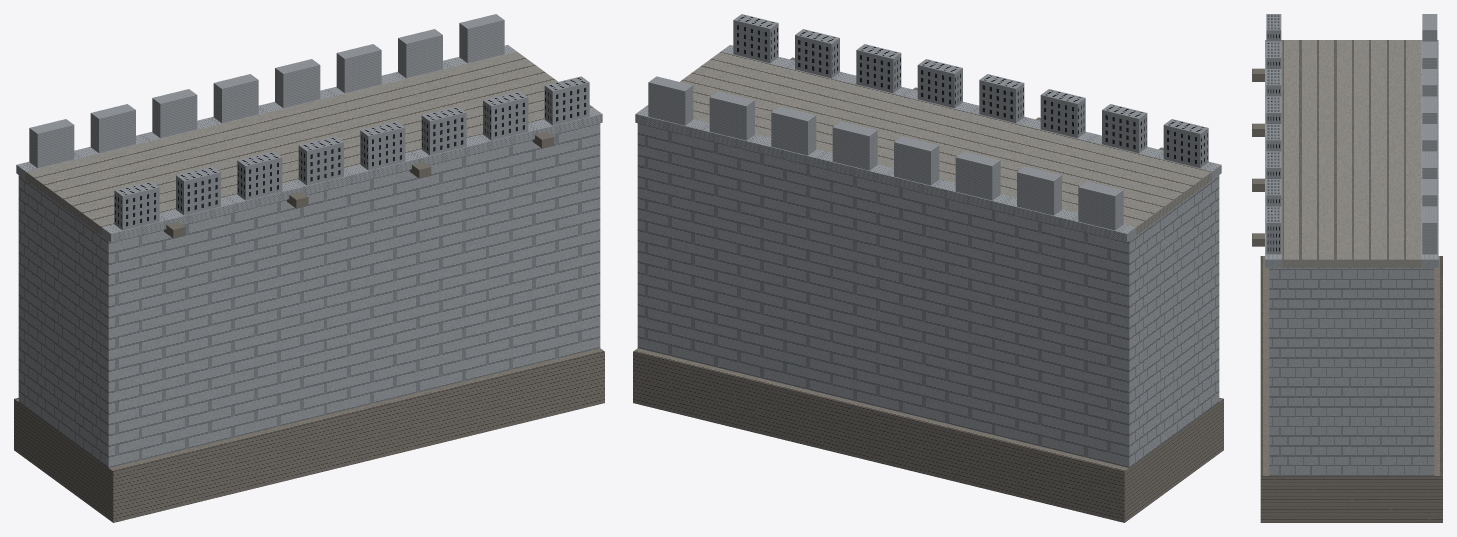
The model's file is great_wall_var1_straight_segment.glb.
3 views of the same model, side by side, from view 1: azimuth 30°, elevation 25°; view 2: azimuth 150°, elevation 25°; view 3: azimuth 270°, elevation 25° (orthographic). The views are drawn at different scales.
Visible parts, largest first — view 1: Great_Wall_Var1_Straight_Segment; view 2: Great_Wall_Var1_Straight_Segment; view 3: Great_Wall_Var1_Straight_Segment.
Part boxes in pixels (x1,y1,x2,y2): Great_Wall_Var1_Straight_Segment: [14, 14, 604, 522]; Great_Wall_Var1_Straight_Segment: [633, 14, 1223, 522]; Great_Wall_Var1_Straight_Segment: [1252, 14, 1442, 522].
Size of the model in its own units: 12 by 7.5 by 4.4.
Materials: 1 (1 with a texture image).
